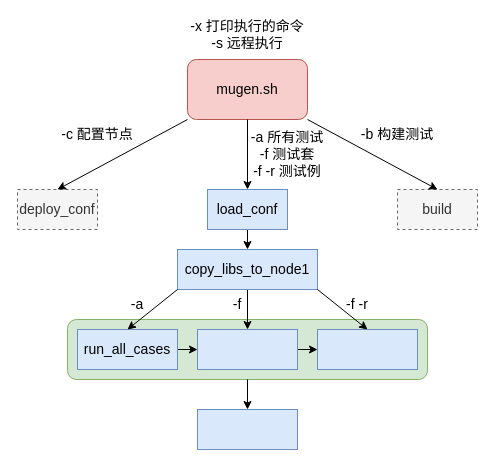
The diagram is 495 pixels wide and 467 high, and some of its shapes have lost their labels. Here are the shapes that lost their labels. From the top down, the centre of each, then its label:
At point 247,349: "run_test_suite".
At point 367,349: "run_test_case".
At point 247,429: "statistic_result".
